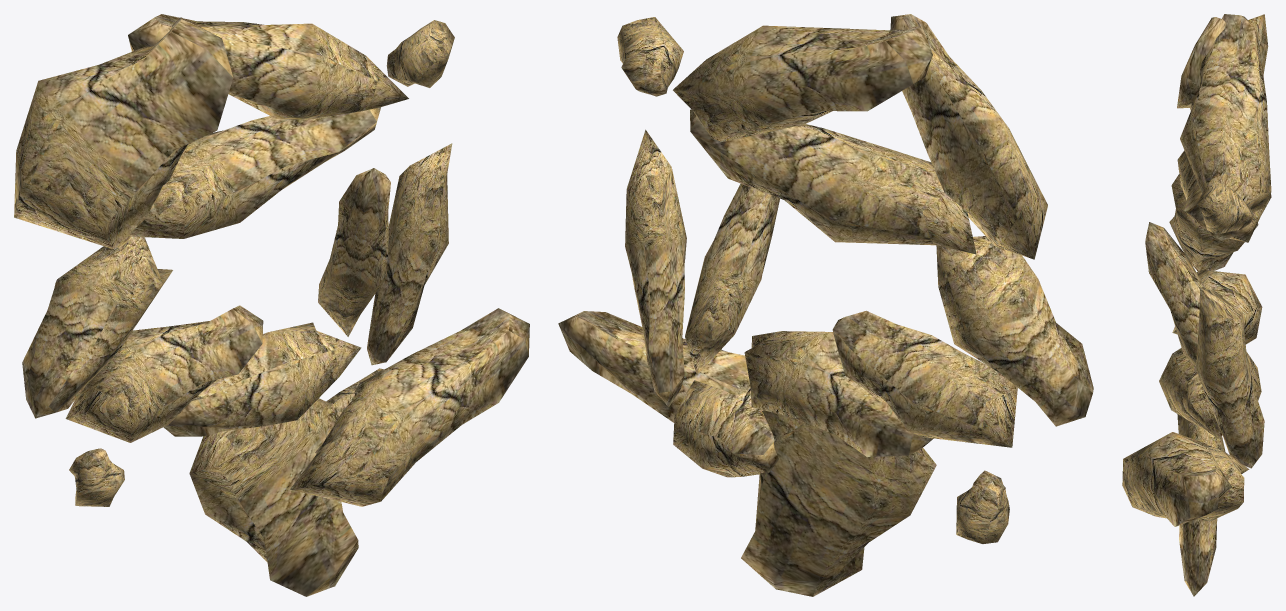
The model's file is cave_000059.obj.
3 renders of one model, left to right at view 1: azimuth 30°, elevation 25°; view 2: azimuth 150°, elevation 25°; view 3: azimuth 270°, elevation 25°, orthographic. The views are drawn at different scales.
Visible parts, largest first — view 1: Cube.006, Cube.002, Cube.008, Cube.005, Cube.007, Cube.004, Cube.003, Cube.001_Cube.000, Cube.012, Cube_Cube.001, Cube.011, Cube.010 (+1 smaller); view 2: Cube.008, Cube.005, Cube.007, Cube.003, Cube.006, Cube.004, Cube.001_Cube.000, Cube.012, Cube_Cube.001, Cube.002, Cube.009, Cube.011 (+1 smaller); view 3: Cube.007, Cube.012, Cube.002, Cube_Cube.001, Cube.008, Cube.001_Cube.000, Cube.003, Cube.006, Cube.004, Cube.011, Cube.005, Cube.009.
Boxes of the visible parts, x1,y1,x2,y2 form: Cube.006: [14, 17, 233, 249]; Cube.002: [290, 308, 529, 506]; Cube.008: [189, 398, 358, 596]; Cube.005: [127, 107, 380, 238]; Cube.007: [128, 14, 408, 119]; Cube.004: [65, 305, 263, 442]; Cube.003: [22, 235, 172, 418]; Cube.001_Cube.000: [163, 322, 361, 436]; Cube.012: [367, 143, 452, 365]; Cube_Cube.001: [318, 168, 390, 336]; Cube.011: [386, 20, 454, 87]; Cube.010: [69, 448, 124, 506]; Cube.008: [741, 410, 936, 596]; Cube.005: [690, 109, 976, 254]; Cube.007: [673, 25, 932, 141]; Cube.003: [936, 236, 1093, 426]; Cube.006: [890, 14, 1047, 259]; Cube.004: [832, 310, 1018, 447]; Cube.001_Cube.000: [744, 331, 933, 457]; Cube.012: [625, 129, 686, 407]; Cube_Cube.001: [685, 183, 779, 375]; Cube.002: [558, 311, 750, 422]; Cube.009: [673, 380, 778, 477]; Cube.011: [617, 17, 683, 96]; Cube.007: [1180, 14, 1271, 212]; Cube.012: [1196, 287, 1264, 468]; Cube.002: [1122, 432, 1231, 526]; Cube_Cube.001: [1145, 222, 1261, 400]; Cube.008: [1177, 414, 1225, 596]; Cube.001_Cube.000: [1159, 348, 1222, 437]; Cube.003: [1169, 174, 1258, 271]; Cube.006: [1177, 14, 1268, 110]; Cube.004: [1172, 269, 1262, 344]; Cube.011: [1196, 179, 1254, 234]; Cube.005: [1177, 150, 1271, 242]; Cube.009: [1197, 445, 1249, 521].
Size of the model in its own units: 14.34 by 16.13 by 4.2.
